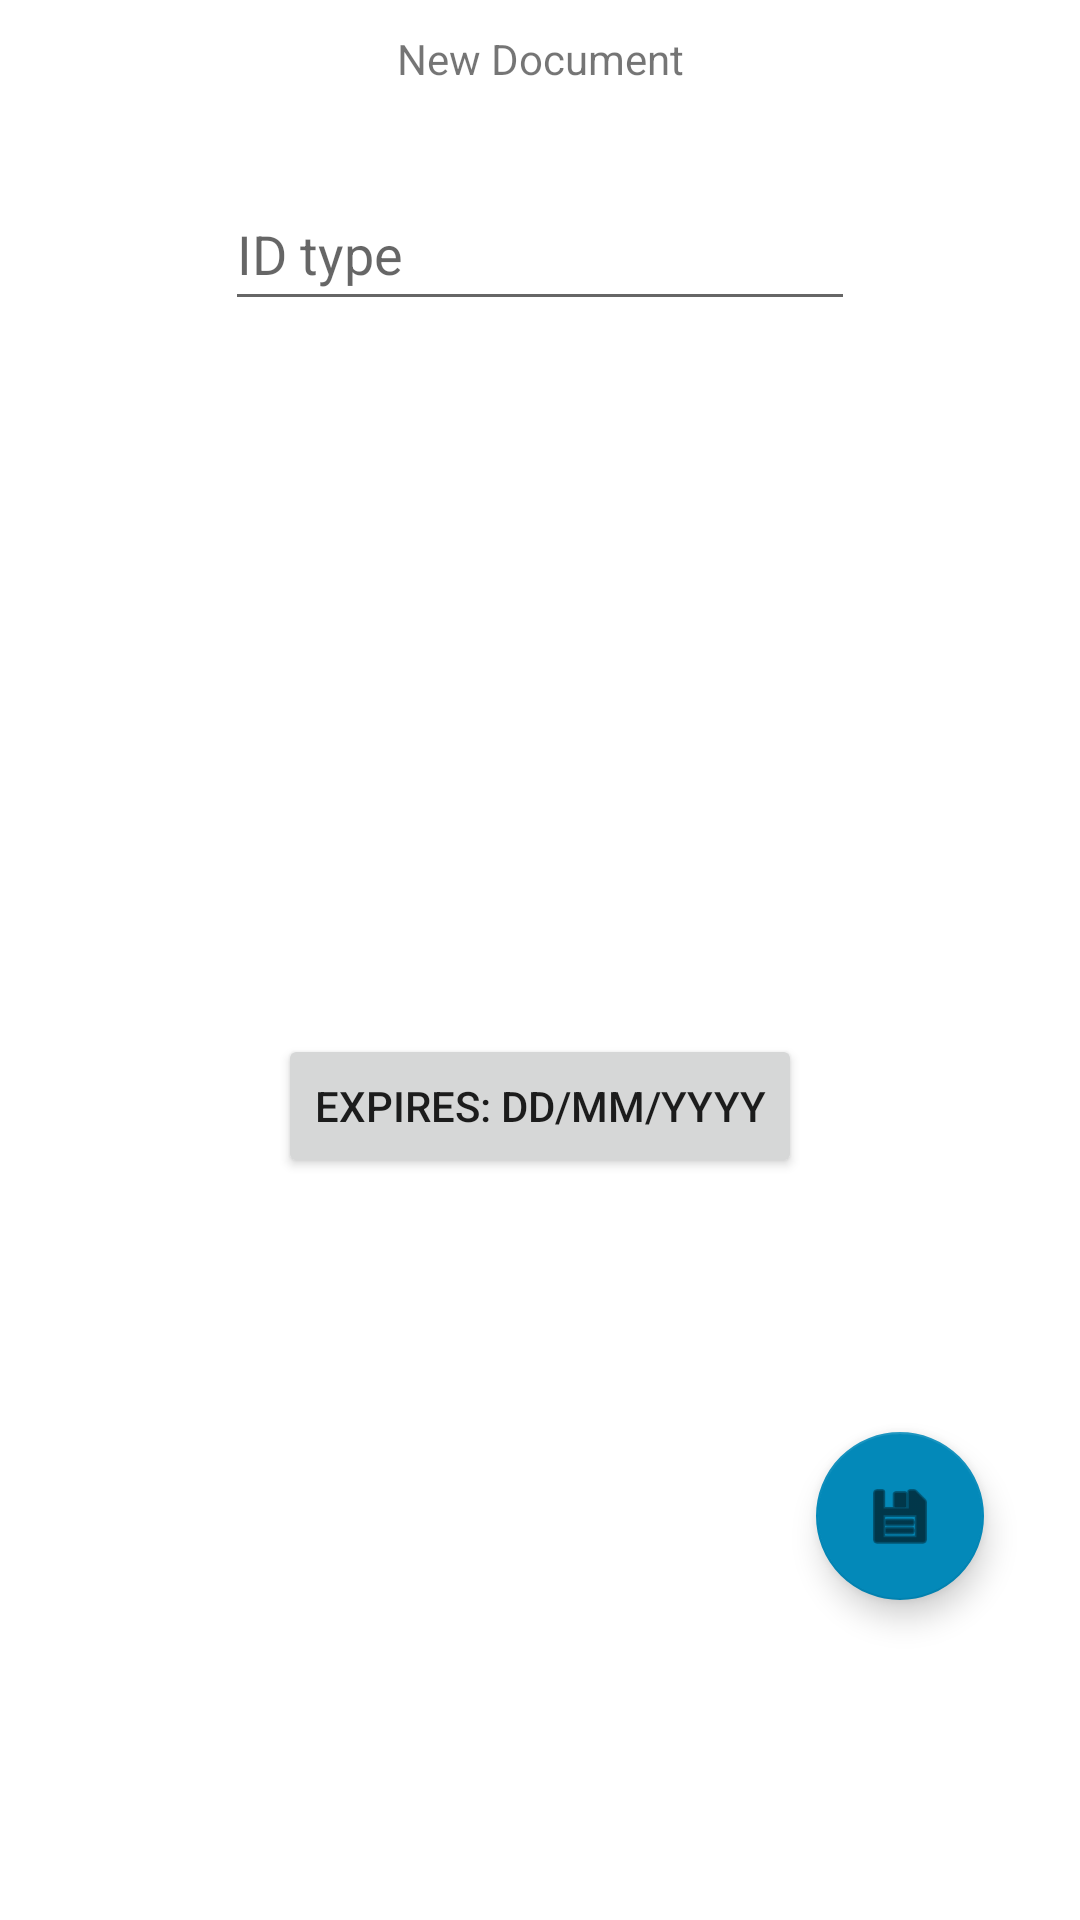

Icons on this 1080 × 1920 Android screen, each with the point to tap as (x,y):
Save Trip: (900,1516)
